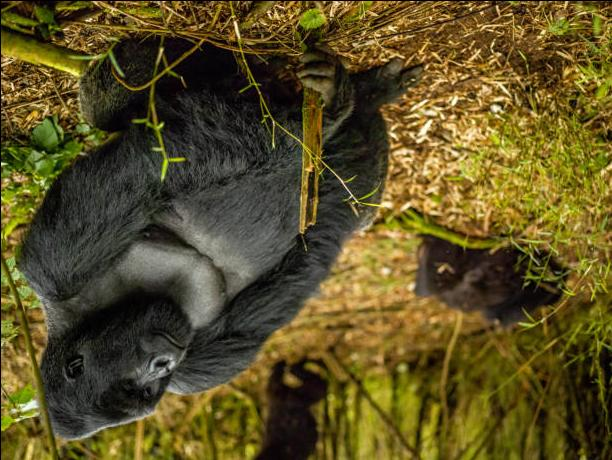goriile_montagne: (28, 34, 374, 446)
